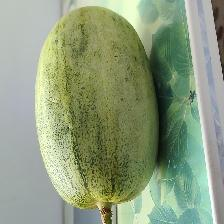gua: (49, 20, 145, 215)
